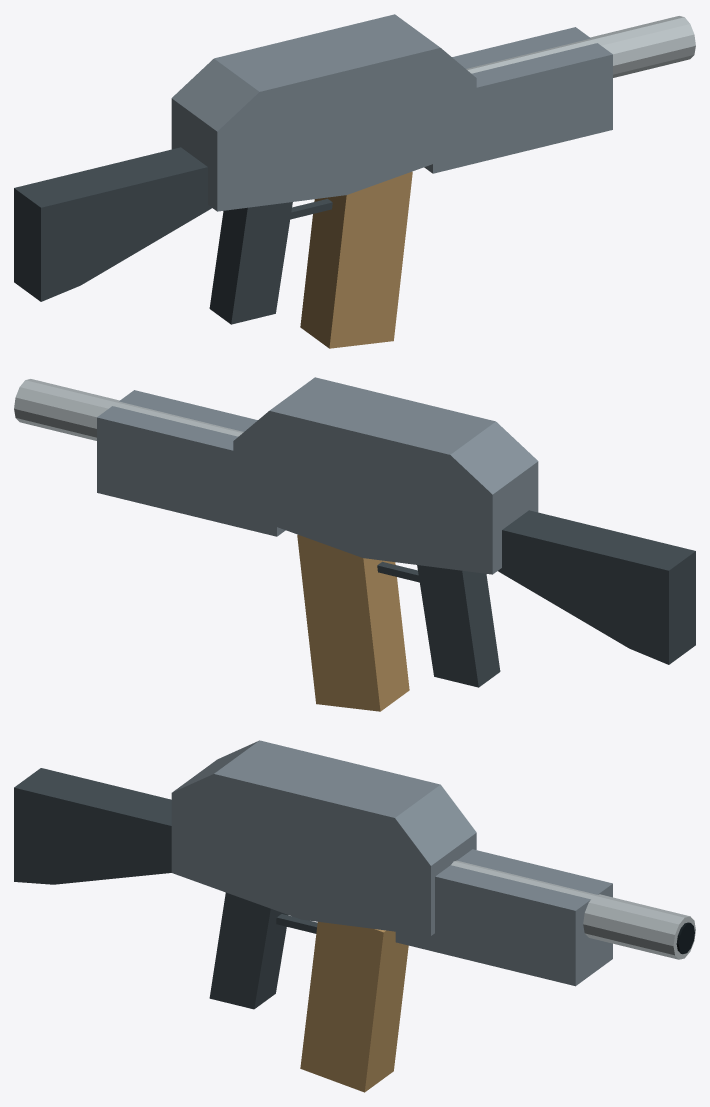
The model's file is w04-rivet-saint-static.glb.
3 renders of one model, top to bottom at view 1: azimuth 30°, elevation 25°; view 2: azimuth 150°, elevation 25°; view 3: azimuth 330°, elevation 25°, orthographic.
Parts seen in each view (by area): view 1: w04-rivet-saint__receiver.001, w04-rivet-saint__stock.001, w04-rivet-saint__forearm.001, w04-rivet-saint__magazine.001, w04-rivet-saint__grip.001, w04-rivet-saint__barrel.001; view 2: w04-rivet-saint__receiver.001, w04-rivet-saint__stock.001, w04-rivet-saint__forearm.001, w04-rivet-saint__magazine.001, w04-rivet-saint__grip.001, w04-rivet-saint__barrel.001; view 3: w04-rivet-saint__receiver.001, w04-rivet-saint__forearm.001, w04-rivet-saint__stock.001, w04-rivet-saint__magazine.001, w04-rivet-saint__grip.001, w04-rivet-saint__barrel.001.
Boxes of the visible parts, <box> form: w04-rivet-saint__receiver.001: <box>171,14,476,211</box>; w04-rivet-saint__stock.001: <box>14,147,211,301</box>; w04-rivet-saint__forearm.001: <box>424,27,612,173</box>; w04-rivet-saint__magazine.001: <box>300,171,412,348</box>; w04-rivet-saint__grip.001: <box>209,202,292,324</box>; w04-rivet-saint__barrel.001: <box>466,16,695,77</box>; w04-rivet-saint__receiver.001: <box>233,377,538,574</box>; w04-rivet-saint__stock.001: <box>498,510,695,664</box>; w04-rivet-saint__forearm.001: <box>97,390,285,536</box>; w04-rivet-saint__magazine.001: <box>297,534,409,711</box>; w04-rivet-saint__grip.001: <box>417,565,500,687</box>; w04-rivet-saint__barrel.001: <box>14,379,243,440</box>; w04-rivet-saint__receiver.001: <box>171,740,476,935</box>; w04-rivet-saint__forearm.001: <box>395,849,612,986</box>; w04-rivet-saint__stock.001: <box>14,768,171,884</box>; w04-rivet-saint__magazine.001: <box>300,922,408,1092</box>; w04-rivet-saint__grip.001: <box>209,892,288,1009</box>; w04-rivet-saint__barrel.001: <box>451,860,695,959</box>.
Size of the model in its own units: 0.915 by 0.3846 by 0.11.
